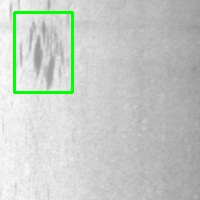inclusion: (14, 12, 72, 92)
